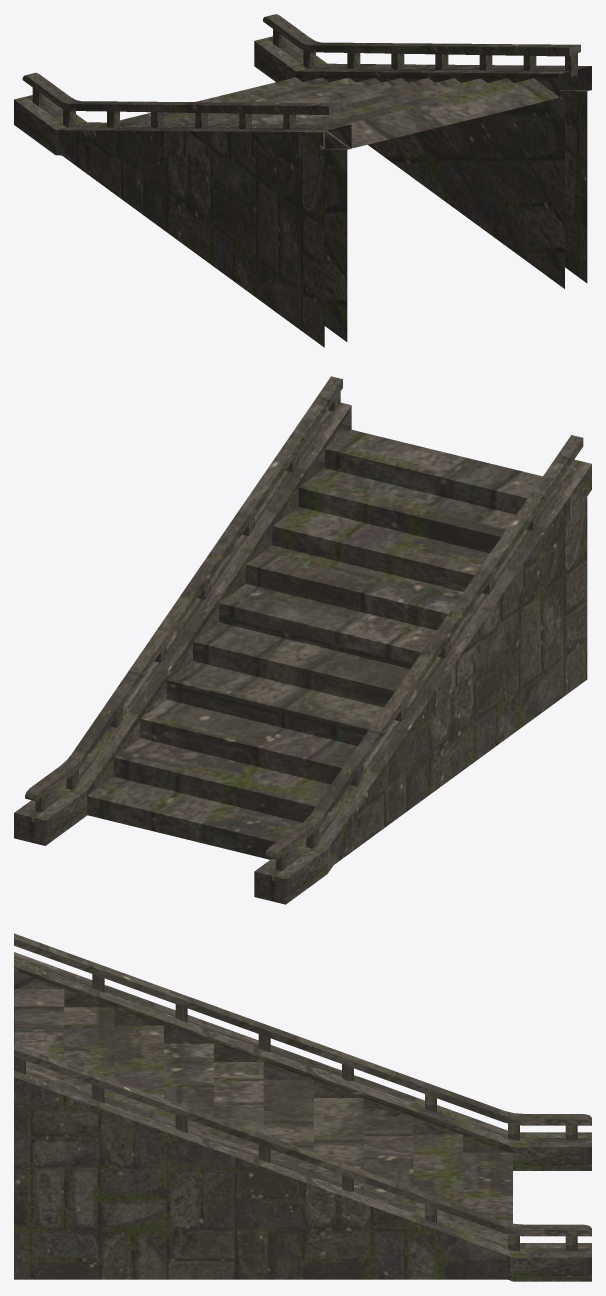
The model's file is staircase.fbx.
3 views of the same model, one above another, from view 1: azimuth 30°, elevation 25°; view 2: azimuth 150°, elevation 25°; view 3: azimuth 270°, elevation 25° (orthographic). The views are drawn at different scales.
Parts seen in each view (by area): view 1: staircase; view 2: staircase; view 3: staircase.
Part boxes in pixels (x1,y1,x2,y2): staircase: (14,14,591,347); staircase: (14,376,591,904); staircase: (14,933,591,1281).
Size of the model in its own units: 513 by 434 by 1001.
